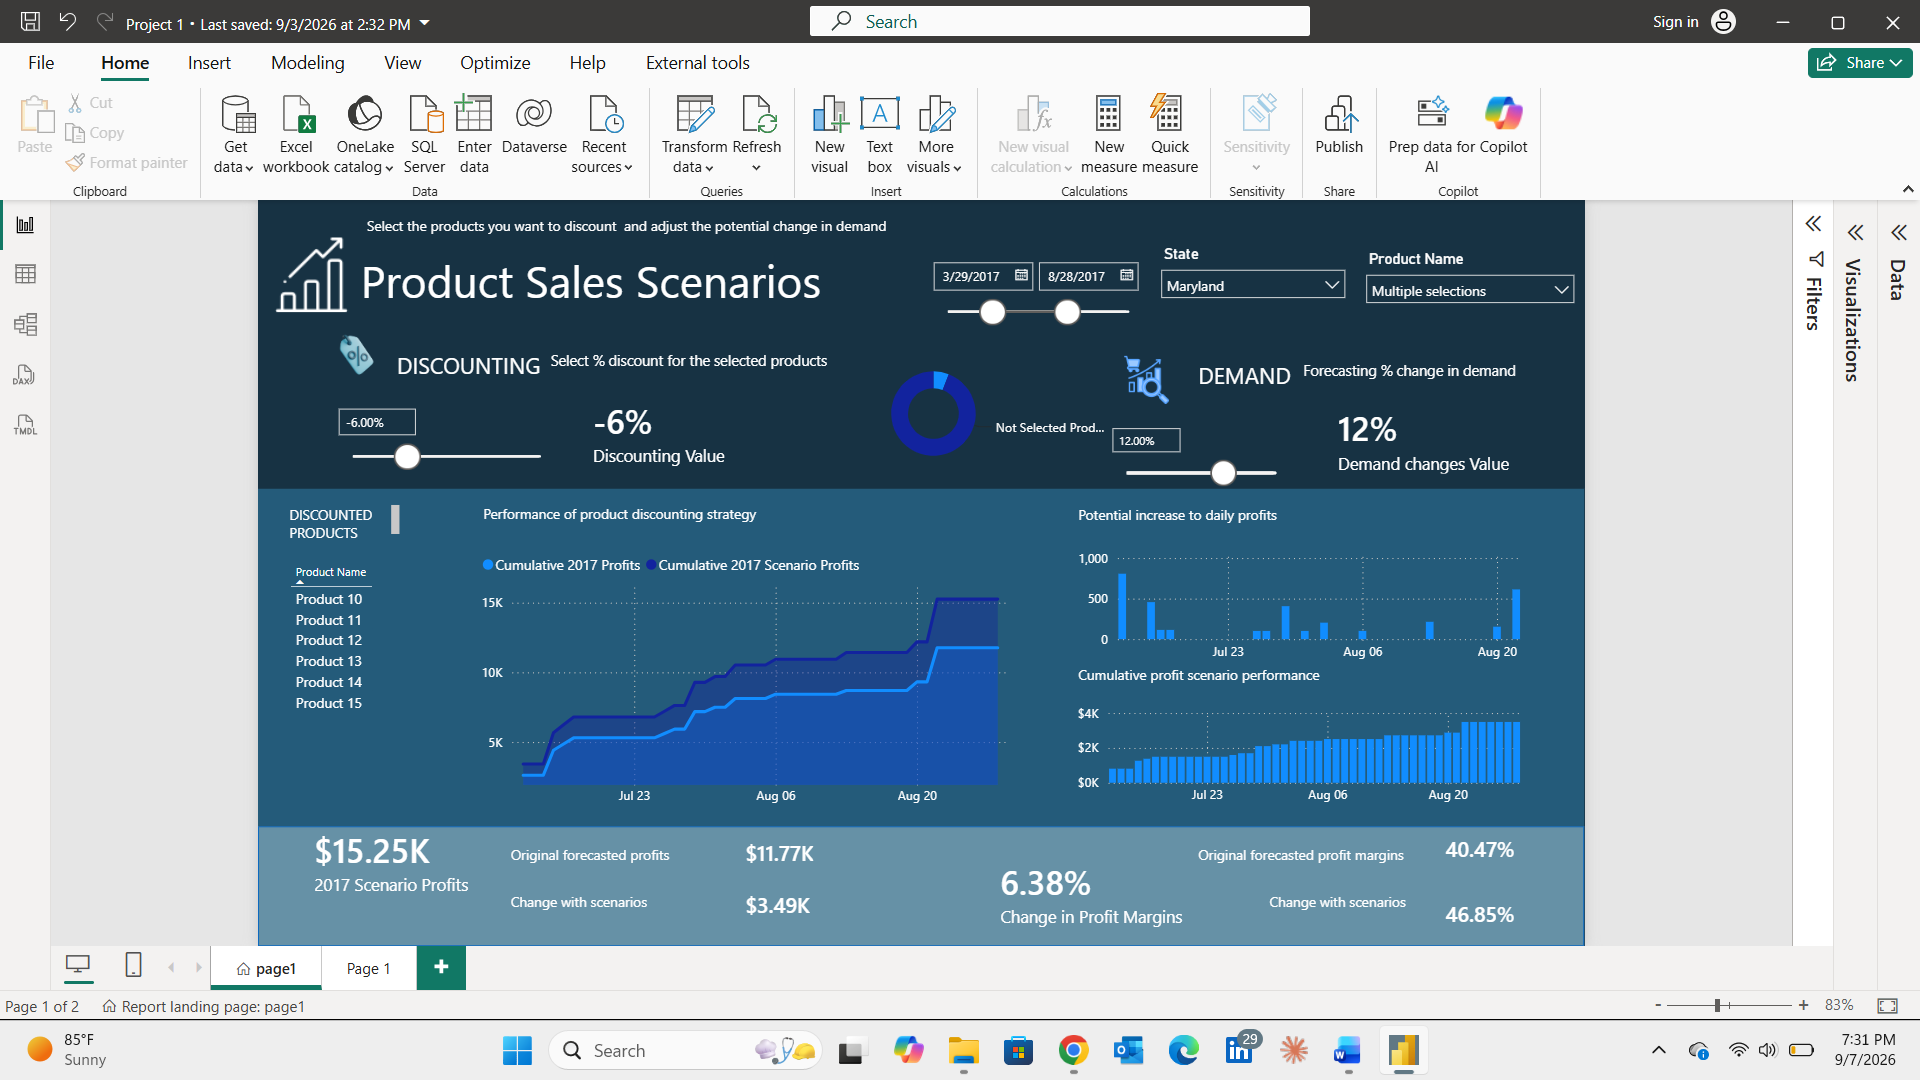

The page's visual inventory and layout, read from the dashboard file:
{"tool":"powerbi","page":{"name":"page1","canvas":[1280,720],"ordinal":0},"visuals":[{"type":"shape","box":[0,604.4,1280,115.8],"z":0},{"type":"shape","box":[0,278.7,1280,325.7],"z":1000},{"type":"image","box":[14.5,36.2,74.1,72.3],"z":2000},{"type":"textbox","box":[94.2,44,474.5,80.7],"z":3000},{"type":"textbox","box":[129,140,166,48],"z":4000},{"type":"image","box":[68.8,125.5,50.1,47.7],"z":5000},{"type":"textbox","box":[277.6,139.4,309.4,48.9],"z":6000},{"type":"slicer","fields":{"Values":["Date.Date"]},"box":[639.5,36.7,222.3,86.4],"z":7000},{"type":"slicer","fields":{"Values":["Discounting.Discounting"]},"box":[65.1,189.4,229.2,89.3],"z":8000},{"type":"cardVisual","fields":{"Data":["Discounting.Discounting Value"]},"box":[294.4,173.7,193.2,101.5],"z":9000},{"type":"slicer","fields":{"Values":["Locations.State"]},"box":[861.4,38.6,197.9,86.9],"z":10000},{"type":"slicer","fields":{"Values":["Products.Product Name"]},"box":[1059,44,221.3,79.5],"z":11000},{"type":"donutChart","fields":{"Y":["key measures.Selected Products","key measures.Not Selected Products"]},"box":[475.3,149.6,353.5,113.4],"z":12000},{"type":"textbox","box":[902.5,149.2,117.4,48.9],"z":13000},{"type":"image","box":[828.8,149.6,57.9,48.3],"z":14000},{"type":"slicer","fields":{"Values":["Demand changes.Demand changes"]},"box":[811.9,197.9,191.8,80.8],"z":15000},{"type":"cardVisual","fields":{"Data":["Demand changes.Demand changes Value"]},"box":[1013.4,173.7,226.8,115.8],"z":16000},{"type":"textbox","box":[1003.9,149.2,247,48.9],"z":17000},{"type":"textbox","box":[25.7,289.8,116.2,41.6],"z":18000},{"type":"textbox","box":[211.8,288.7,295.4,43.2],"z":19000},{"type":"areaChart","fields":{"Category":["Date.Date"],"Y":["Cummulative measures.Cumulative 2017 Profits","Cummulative measures.Cumulative 2017 Scenario Profits"]},"box":[211.6,331.4,527,261.7],"z":20000},{"type":"textbox","box":[786.3,289.8,397.4,41.6],"z":21000},{"type":"columnChart","fields":{"Category":["Date.Date"],"Y":["Budget data.Profit Scenarios vs Forecasts"]},"box":[786.3,331.4,453.7,122.3],"z":22000},{"type":"textbox","box":[786.3,443.9,439,37.9],"z":23000},{"type":"columnChart","fields":{"Category":["Date.Date"],"Y":["Cummulative measures.Scenario Profits Diff"]},"box":[786.3,481.8,453.7,111.3],"z":24000},{"type":"cardVisual","fields":{"Data":["Budget data.2017 Scenario Profits"]},"box":[25.7,574.7,212.8,128.4],"z":25000},{"type":"textbox","box":[238.5,617.5,196.9,36.7],"z":26000},{"type":"textbox","box":[238.5,664,196.9,39.1],"z":27000},{"type":"cardVisual","fields":{"Data":["Budget data.2017 Profit Budgets"]},"box":[441.4,593.1,135.7,70.9],"z":28000},{"type":"cardVisual","fields":{"Data":["Cummulative measures.Scenario Profits Diff"]},"box":[441.6,645.4,135.7,66],"z":29000},{"type":"cardVisual","fields":{"Data":["Budget data.Change in Profit Margins"]},"box":[687.2,617.5,249.5,102.7],"z":30000},{"type":"textbox","box":[902.5,617.5,240.9,37.9],"z":31000},{"type":"textbox","box":[971.2,663.5,156.8,31.4],"z":32000},{"type":"cardVisual","fields":{"Data":["Budget data.Forecast Profit Margins"]},"box":[1117.7,593.1,133.3,62.4],"z":33000},{"type":"cardVisual","fields":{"Data":["Budget data.Forecast Scenario Margins"]},"box":[1117.7,655.4,133.3,64.8],"z":34000},{"type":"textbox","box":[100.1,10.9,521.2,45.8],"z":35000},{"type":"tableEx","fields":{"Values":["Products.Product Name"]},"box":[25.3,345,115.8,234],"z":36000}]}

Visuals, with their boxes on the page's 1280x720 design canvas (x1, y1, x2, y2). These are canvas units, not pixel positions in the 1920x1080 screenshot, which may show the page scaled, cropped or inside an application window:
shape: bbox(0, 604, 1280, 720)
shape: bbox(0, 279, 1280, 604)
image: bbox(14, 36, 89, 108)
textbox: bbox(94, 44, 569, 125)
textbox: bbox(129, 140, 295, 188)
image: bbox(69, 126, 119, 173)
textbox: bbox(278, 139, 587, 188)
slicer - Date.Date: bbox(640, 37, 862, 123)
slicer - Discounting.Discounting: bbox(65, 189, 294, 279)
cardVisual - Discounting.Discounting Value: bbox(294, 174, 488, 275)
slicer - Locations.State: bbox(861, 39, 1059, 126)
slicer - Products.Product Name: bbox(1059, 44, 1280, 124)
donutChart - key measures.Selected Products x key measures.Not Selected Products: bbox(475, 150, 829, 263)
textbox: bbox(902, 149, 1020, 198)
image: bbox(829, 150, 887, 198)
slicer - Demand changes.Demand changes: bbox(812, 198, 1004, 279)
cardVisual - Demand changes.Demand changes Value: bbox(1013, 174, 1240, 290)
textbox: bbox(1004, 149, 1251, 198)
textbox: bbox(26, 290, 142, 331)
textbox: bbox(212, 289, 507, 332)
areaChart - Date.Date x Cummulative measures.Cumulative 2017 Profits: bbox(212, 331, 739, 593)
textbox: bbox(786, 290, 1184, 331)
columnChart - Date.Date x Budget data.Profit Scenarios vs Forecasts: bbox(786, 331, 1240, 454)
textbox: bbox(786, 444, 1225, 482)
columnChart - Date.Date x Cummulative measures.Scenario Profits Diff: bbox(786, 482, 1240, 593)
cardVisual - Budget data.2017 Scenario Profits: bbox(26, 575, 238, 703)
textbox: bbox(238, 618, 435, 654)
textbox: bbox(238, 664, 435, 703)
cardVisual - Budget data.2017 Profit Budgets: bbox(441, 593, 577, 664)
cardVisual - Cummulative measures.Scenario Profits Diff: bbox(442, 645, 577, 711)
cardVisual - Budget data.Change in Profit Margins: bbox(687, 618, 937, 720)
textbox: bbox(902, 618, 1143, 655)
textbox: bbox(971, 664, 1128, 695)
cardVisual - Budget data.Forecast Profit Margins: bbox(1118, 593, 1251, 656)
cardVisual - Budget data.Forecast Scenario Margins: bbox(1118, 655, 1251, 720)
textbox: bbox(100, 11, 621, 57)
tableEx - Products.Product Name: bbox(25, 345, 141, 579)
